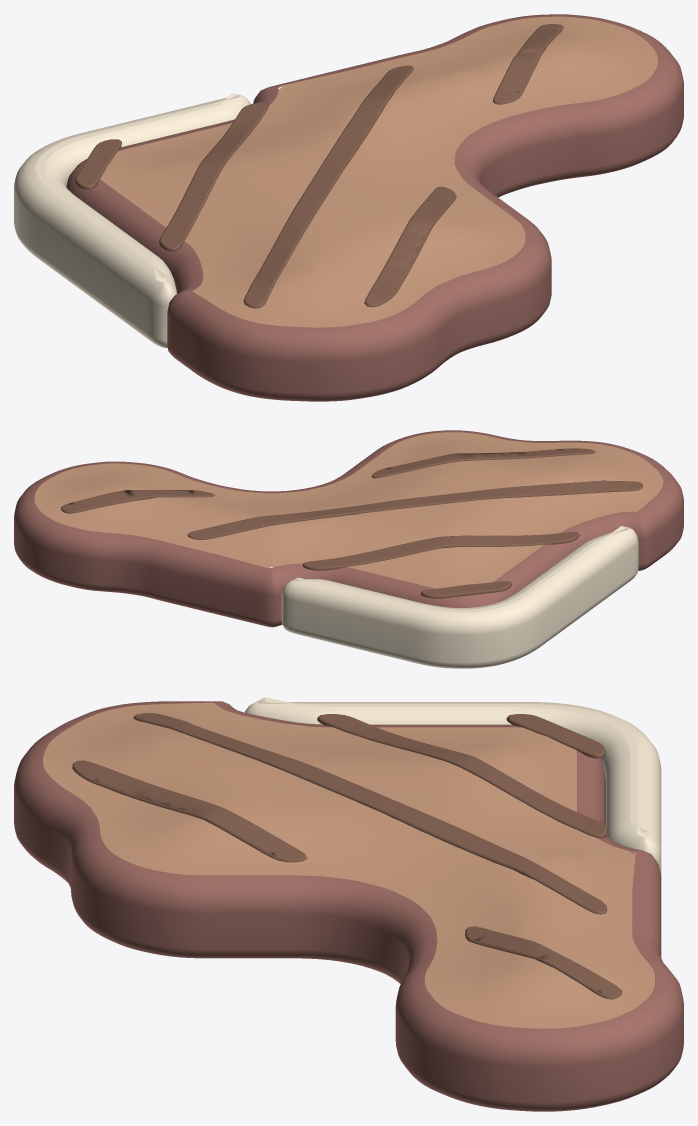
Rendered from PrimeCutChuck.glb.
The picture shows the model from 3 angles, top to bottom: view 1: azimuth 30°, elevation 25°; view 2: azimuth 150°, elevation 25°; view 3: azimuth 270°, elevation 25°; orthographic projection. The views are drawn at different scales.
Visible parts, largest first — view 1: Meat, Crust, Fat, Marks; view 2: Meat, Crust, Fat, Marks; view 3: Meat, Crust, Marks, Fat.
Part boxes in pixels (left/top/right/bottom): Meat: left=100, top=16, right=657, bottom=327; Crust: left=66, top=14, right=683, bottom=401; Fat: left=14, top=93, right=250, bottom=348; Marks: left=75, top=24, right=563, bottom=308; Meat: left=34, top=432, right=663, bottom=588; Crust: left=14, top=430, right=683, bottom=627; Fat: left=281, top=526, right=638, bottom=668; Marks: left=61, top=448, right=642, bottom=598; Meat: left=43, top=702, right=654, bottom=1028; Crust: left=14, top=701, right=683, bottom=1111; Marks: left=72, top=713, right=622, bottom=999; Fat: left=244, top=697, right=661, bottom=874.
Size of the model in its own units: 14.28 by 1.77 by 11.58.
